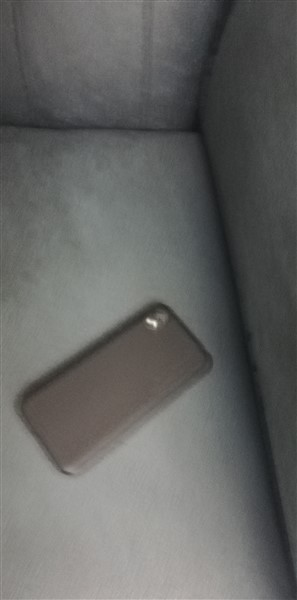telefon: (10, 297, 226, 481)
